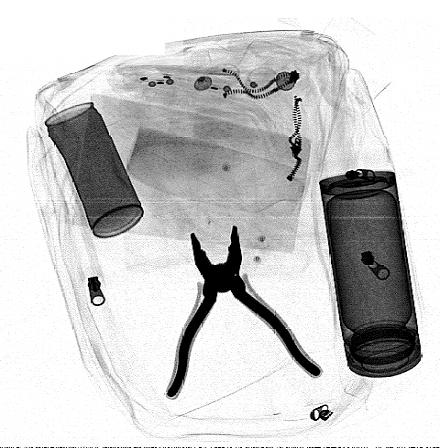Pliers: (165, 223, 319, 400)
